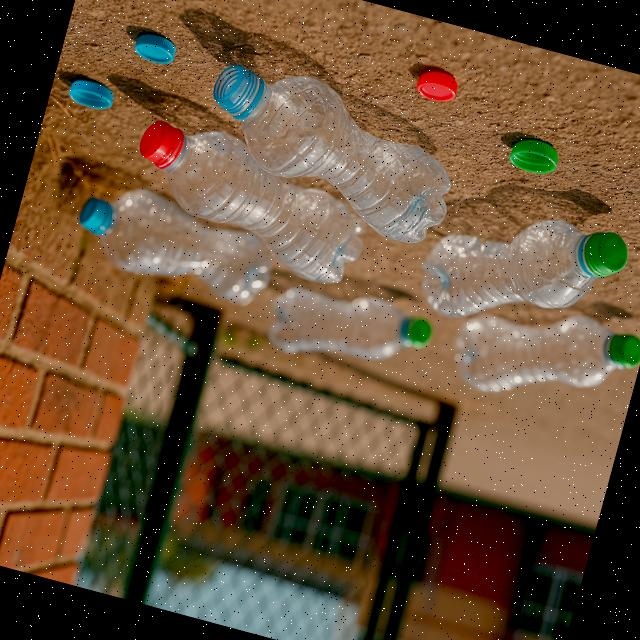plastic: (182, 51, 470, 253), (113, 108, 378, 291), (409, 187, 632, 356)
